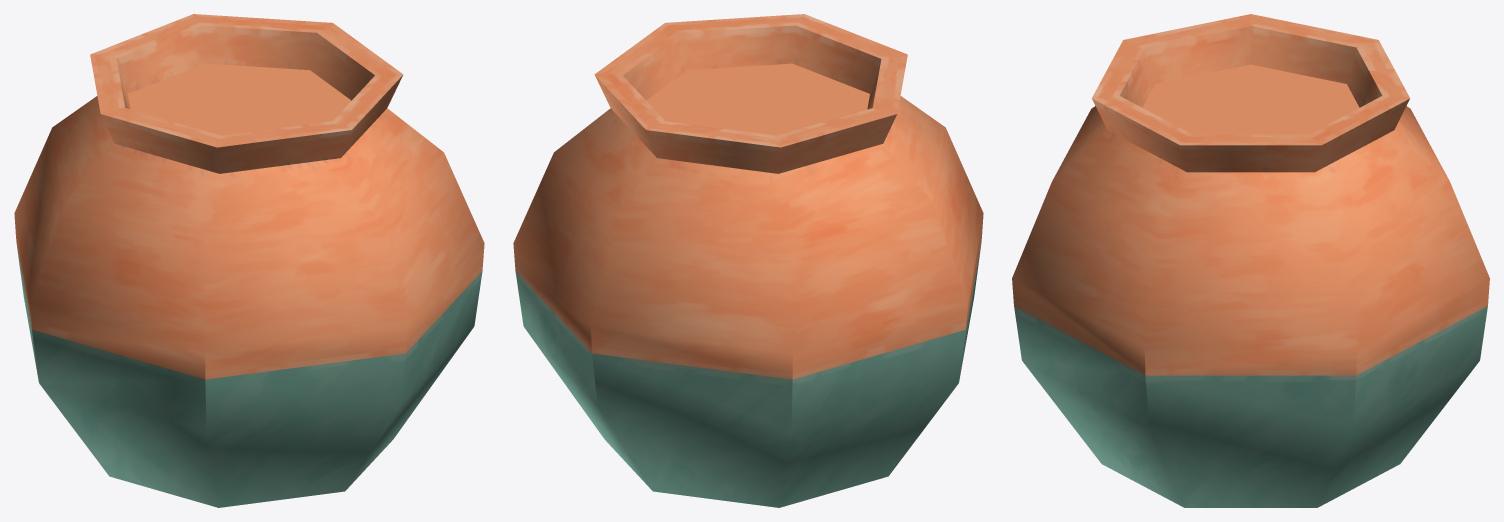
Rendered from pot_round_low.fbx.
3 renders of one model, left to right at view 1: azimuth 30°, elevation 25°; view 2: azimuth 150°, elevation 25°; view 3: azimuth 270°, elevation 25°, orthographic.
Visible parts, largest first — view 1: pot_round; view 2: pot_round; view 3: pot_round.
Boxes of the visible parts, x1,y1,x2,y2 form: pot_round: (14, 14, 484, 507); pot_round: (513, 14, 983, 507); pot_round: (1012, 14, 1489, 507).
Size of the model in its own units: 2.28 by 2.08 by 2.34.
1 material, 1 textured.
